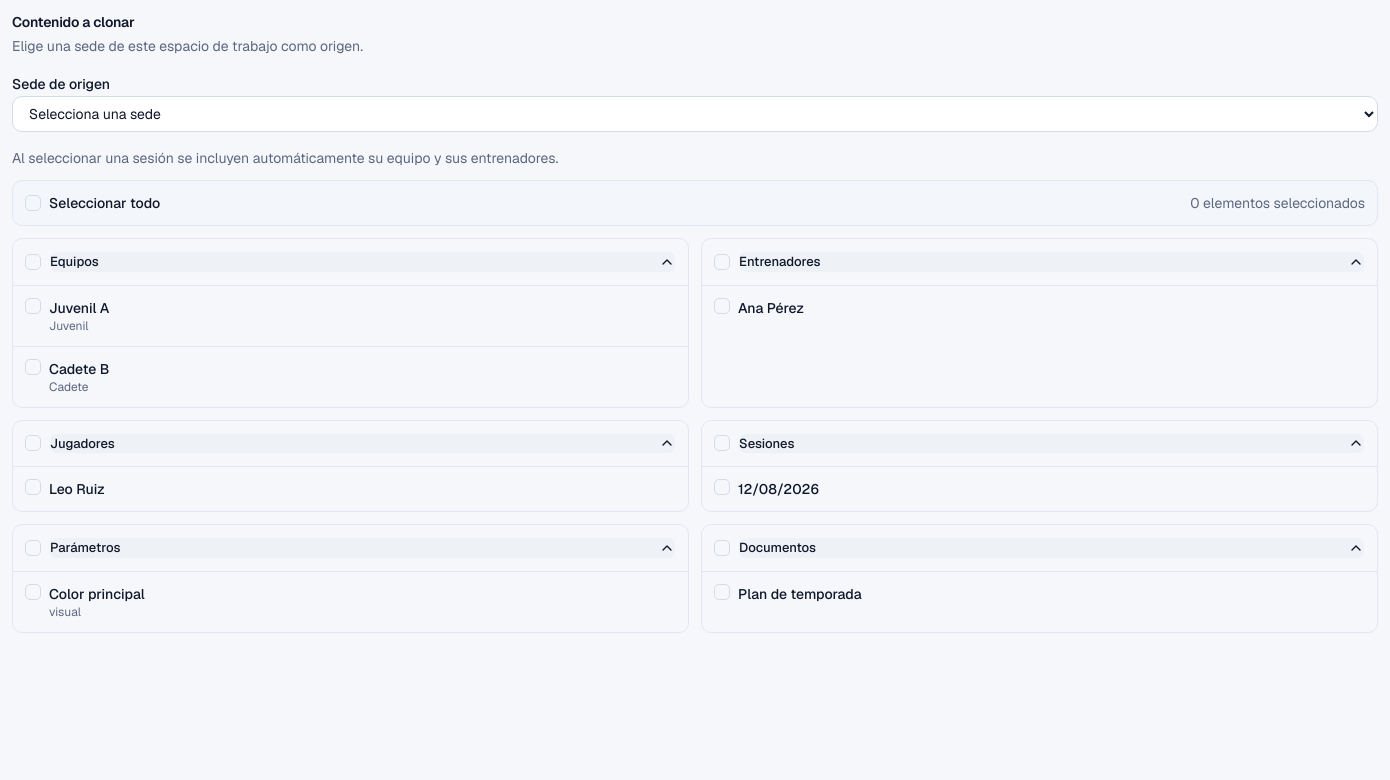
Test: SedeCloneContentSelector › solo permite elegir como origen una sede del mismo workspace
Select "Sede Norte" in the dropdown labelled "Sede de origen" at (695,114), box [12,96,1378,132]
Click the button with aria-label "Ocultar equipos".
click(74, 262)  # box [49,251,676,272]
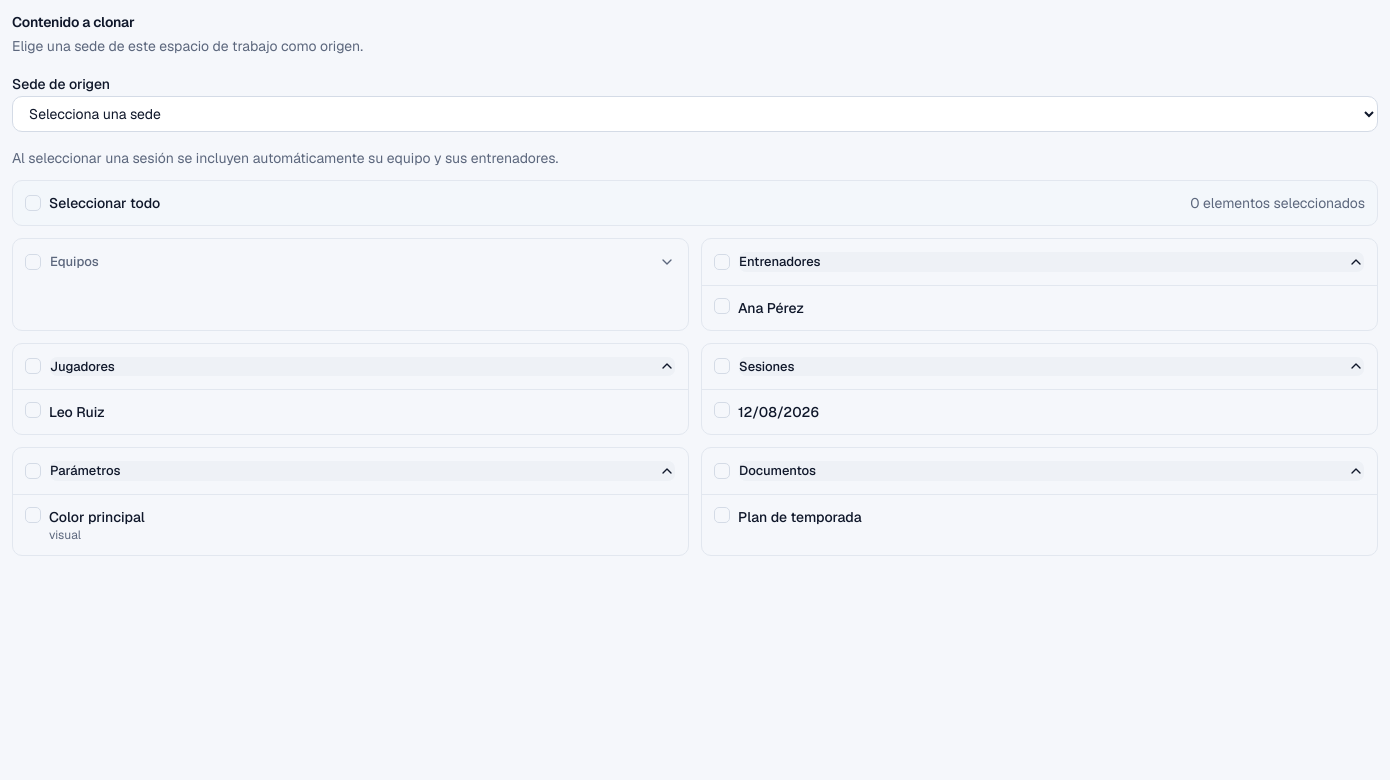
Result: the button with aria-label "Mostrar equipos" is collapsed at [49,251,676,272]
Result: the element with id "sede-clone-equipos" is gone
